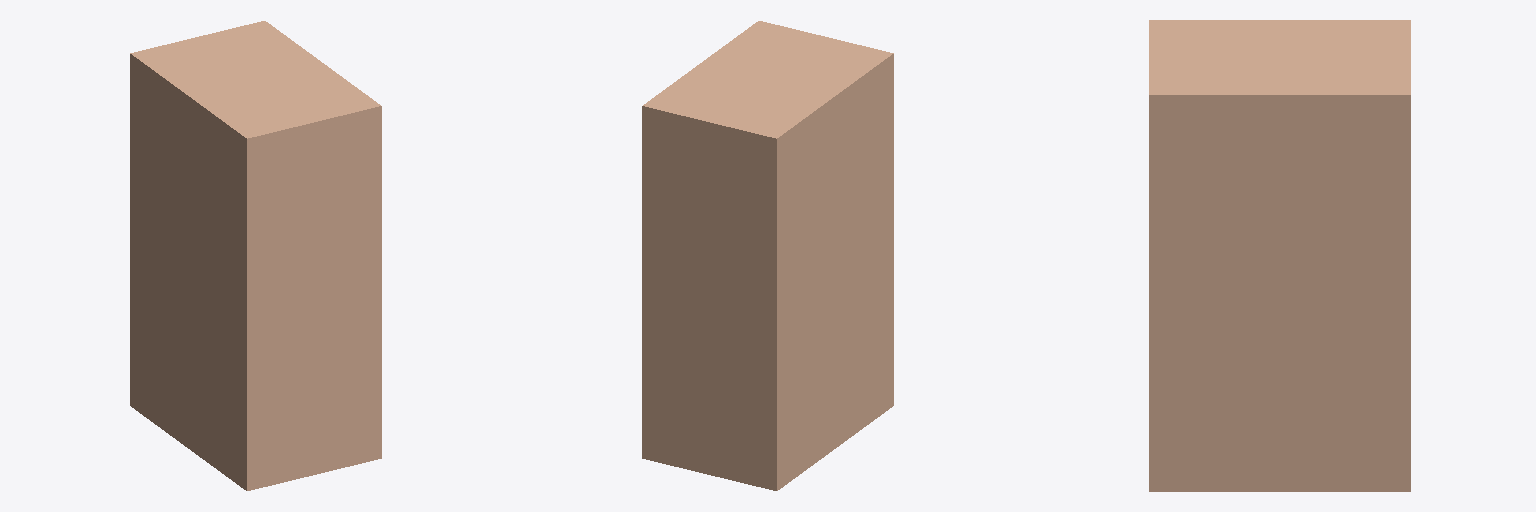
The robot description file, URDF, robot "cuboid":
<?xml version="1.0" ?>
<robot name="cuboid">
  <dynamics damping="1.0" />
  <contact>
    <restitution value="0.01"/>
    <lateral_friction value="0.5"/>
    <rolling_friction value="0.5"/>
    <contact_cfm value="0.0"/>
    <contact_erp value="1.0"/>
  </contact>
  <material name="peach">
    <color rgba="0.9 0.75 0.65 1"/>
  </material>
  <link name="world"/>
  <joint name="robot_to_world" type="fixed">
    <parent link="world"/>
    <child link="cuboid"/>
    <!--origin xyz="0 0 0" rpy="0.5235987756 0 -1.5707963268"/-->
    <origin xyz="0 0 0" rpy="0 0 0"/>
  </joint>
  <link name="cuboid">
    <inertial>
      <origin rpy="0 0 0" xyz="0 0 0"/>
      <mass value="0.2"/>
      <inertia ixx="0.0001" ixy="0" ixz="0" iyy="0.0001" iyz="0" izz="0.0001"/>
    </inertial>
    <visual>
      <origin rpy="0 0 0" xyz="0 0 0"/>
      <geometry>
        <box size="0.2 0.3 0.5"/>
      </geometry>
      <material name="peach" />
    </visual>
    <collision>
      <origin rpy="0 0 0" xyz="0 0 0"/>
      <geometry>
        <box size="0.2 0.3 0.5"/>
      </geometry>
      <material name="peach" />
    </collision>
  </link>
</robot>

--- Render facts (derived) ---
Views: 3 orthographic renders of the robot side by side, from view 1: azimuth 30°, elevation 25°; view 2: azimuth 150°, elevation 25°; view 3: azimuth 270°, elevation 25°.
Robot: cuboid — 2 links, 1 joints (1 fixed); root link world; default pose: every joint at zero.
Links seen in each view (by area): view 1: cuboid; view 2: cuboid; view 3: cuboid.
Boxes of the visible links, bbox=[...] form: cuboid: bbox=[130, 21, 381, 490]; cuboid: bbox=[642, 21, 893, 490]; cuboid: bbox=[1149, 20, 1410, 491].
Bounding box of the posed robot: 0.2 × 0.3 × 0.5 m (x, y, z).
Geometry: primitives only (box / cylinder / sphere), no mesh files.